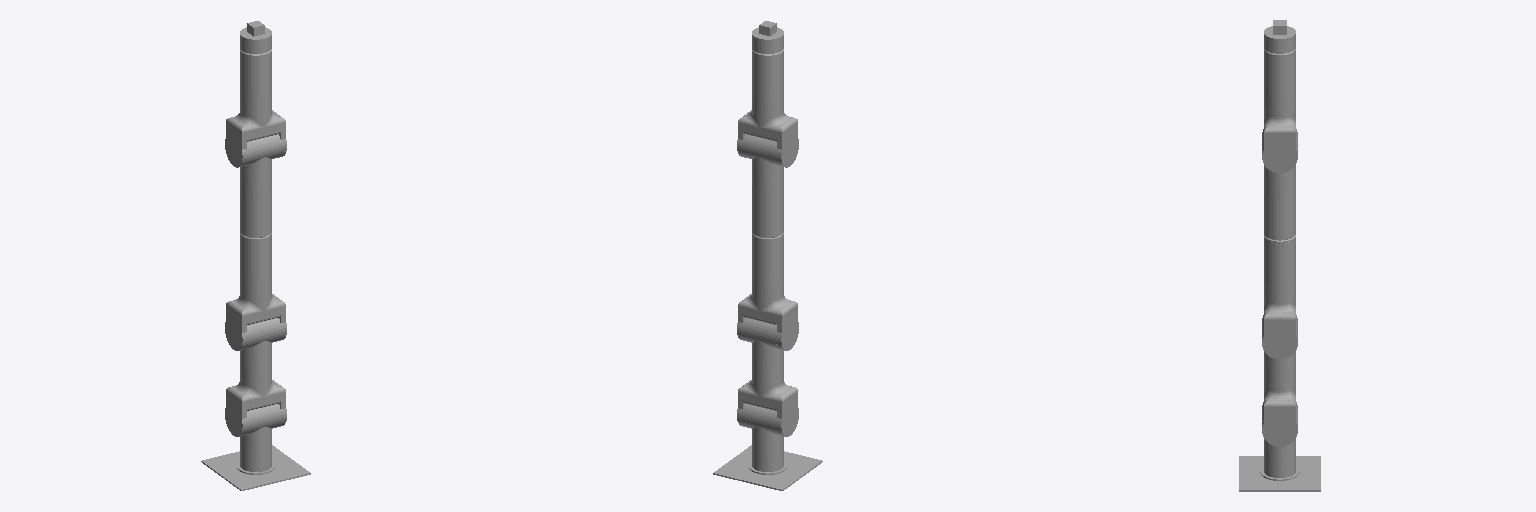
URDF robot description (ostrich_urdf):
<?xml version="1.0" ?>
<!-- =================================================================================== -->
<!-- |    This document was autogenerated by xacro from ostrich_urdf.xacro             | -->
<!-- |    EDITING THIS FILE BY HAND IS NOT RECOMMENDED                                 | -->
<!-- =================================================================================== -->
<robot name="ostrich_urdf">
  <material name="silver">
    <color rgba="0.700 0.700 0.700 1.000"/>
  </material>
  <transmission name="rot1_tran">
    <type>transmission_interface/SimpleTransmission</type>
    <joint name="rot1">
      <hardwareInterface>hardware_interface/EffortJointInterface</hardwareInterface>
    </joint>
    <actuator name="rot1_actr">
      <hardwareInterface>hardware_interface/EffortJointInterface</hardwareInterface>
      <mechanicalReduction>1</mechanicalReduction>
    </actuator>
  </transmission>
  <transmission name="rot2_tran">
    <type>transmission_interface/SimpleTransmission</type>
    <joint name="rot2">
      <hardwareInterface>hardware_interface/EffortJointInterface</hardwareInterface>
    </joint>
    <actuator name="rot2_actr">
      <hardwareInterface>hardware_interface/EffortJointInterface</hardwareInterface>
      <mechanicalReduction>1</mechanicalReduction>
    </actuator>
  </transmission>
  <transmission name="rot3_tran">
    <type>transmission_interface/SimpleTransmission</type>
    <joint name="rot3">
      <hardwareInterface>hardware_interface/EffortJointInterface</hardwareInterface>
    </joint>
    <actuator name="rot3_actr">
      <hardwareInterface>hardware_interface/EffortJointInterface</hardwareInterface>
      <mechanicalReduction>1</mechanicalReduction>
    </actuator>
  </transmission>
  <transmission name="rot4_tran">
    <type>transmission_interface/SimpleTransmission</type>
    <joint name="rot4">
      <hardwareInterface>hardware_interface/EffortJointInterface</hardwareInterface>
    </joint>
    <actuator name="rot4_actr">
      <hardwareInterface>hardware_interface/EffortJointInterface</hardwareInterface>
      <mechanicalReduction>1</mechanicalReduction>
    </actuator>
  </transmission>
  <transmission name="rot5_tran">
    <type>transmission_interface/SimpleTransmission</type>
    <joint name="rot5">
      <hardwareInterface>hardware_interface/EffortJointInterface</hardwareInterface>
    </joint>
    <actuator name="rot5_actr">
      <hardwareInterface>hardware_interface/EffortJointInterface</hardwareInterface>
      <mechanicalReduction>1</mechanicalReduction>
    </actuator>
  </transmission>
  <transmission name="rot6_tran">
    <type>transmission_interface/SimpleTransmission</type>
    <joint name="rot6">
      <hardwareInterface>hardware_interface/EffortJointInterface</hardwareInterface>
    </joint>
    <actuator name="rot6_actr">
      <hardwareInterface>hardware_interface/EffortJointInterface</hardwareInterface>
      <mechanicalReduction>1</mechanicalReduction>
    </actuator>
  </transmission>
  <gazebo>
    <plugin filename="libgazebo_ros_control.so" name="control"/>
  </gazebo>
  <gazebo reference="base_link">
    <material>Gazebo/Silver</material>
    <mu1>0.2</mu1>
    <mu2>0.2</mu2>
    <selfCollide>true</selfCollide>
    <gravity>true</gravity>
  </gazebo>
  <gazebo reference="arm1_1">
    <material>Gazebo/Silver</material>
    <mu1>0.2</mu1>
    <mu2>0.2</mu2>
    <selfCollide>true</selfCollide>
  </gazebo>
  <gazebo reference="arm2_1">
    <material>Gazebo/Silver</material>
    <mu1>0.2</mu1>
    <mu2>0.2</mu2>
    <selfCollide>true</selfCollide>
  </gazebo>
  <gazebo reference="arm3_1">
    <material>Gazebo/Silver</material>
    <mu1>0.2</mu1>
    <mu2>0.2</mu2>
    <selfCollide>true</selfCollide>
  </gazebo>
  <gazebo reference="arm4_1">
    <material>Gazebo/Silver</material>
    <mu1>0.2</mu1>
    <mu2>0.2</mu2>
    <selfCollide>true</selfCollide>
  </gazebo>
  <gazebo reference="arm5_1">
    <material>Gazebo/Silver</material>
    <mu1>0.2</mu1>
    <mu2>0.2</mu2>
    <selfCollide>true</selfCollide>
  </gazebo>
  <gazebo reference="arm6_1">
    <material>Gazebo/Silver</material>
    <mu1>0.2</mu1>
    <mu2>0.2</mu2>
    <selfCollide>true</selfCollide>
  </gazebo>
  <link name="base_link">
    <inertial>
      <origin rpy="0 0 0" xyz="2.7578935128829445e-17 5.515787025765889e-17 0.002761975022526879"/>
      <mass value="2.5887632628187394"/>
      <inertia ixx="0.012992" ixy="0.0" ixz="-0.0" iyy="0.012992" iyz="0.0" izz="0.025967"/>
    </inertial>
    <visual>
      <origin rpy="0 0 0" xyz="0 0 0"/>
      <geometry>
        <mesh filename="package://ostrich_urdf_description/meshes/base_link.stl" scale="0.001 0.001 0.001"/>
      </geometry>
      <material name="silver"/>
    </visual>
    <collision>
      <origin rpy="0 0 0" xyz="0 0 0"/>
      <geometry>
        <mesh filename="package://ostrich_urdf_description/meshes/base_link.stl" scale="0.001 0.001 0.001"/>
      </geometry>
    </collision>
  </link>
  <link name="arm1_1">
    <inertial>
      <origin rpy="0 0 0" xyz="0.0 -7.328670674595108e-10 0.12579457405148342"/>
      <mass value="17.06120317992324"/>
      <inertia ixx="0.086124" ixy="0.0" ixz="0.0" iyy="0.089734" iyz="-0.0" izz="0.02783"/>
    </inertial>
    <visual>
      <origin rpy="0 0 0" xyz="-0.0 -0.0 -0.005"/>
      <geometry>
        <mesh filename="package://ostrich_urdf_description/meshes/arm1_1.stl" scale="0.001 0.001 0.001"/>
      </geometry>
      <material name="silver"/>
    </visual>
    <collision>
      <origin rpy="0 0 0" xyz="-0.0 -0.0 -0.005"/>
      <geometry>
        <mesh filename="package://ostrich_urdf_description/meshes/arm1_1.stl" scale="0.001 0.001 0.001"/>
      </geometry>
    </collision>
  </link>
  <link name="arm2_1">
    <inertial>
      <origin rpy="0 0 0" xyz="-0.05999999999732328 3.032800993368656e-08 0.17138913427023483"/>
      <mass value="27.17363423214535"/>
      <inertia ixx="0.332477" ixy="0.0" ixz="0.0" iyy="0.355819" iyz="-0.0" izz="0.064159"/>
    </inertial>
    <visual>
      <origin rpy="0 0 0" xyz="-0.06 -0.0 -0.185"/>
      <geometry>
        <mesh filename="package://ostrich_urdf_description/meshes/arm2_1.stl" scale="0.001 0.001 0.001"/>
      </geometry>
      <material name="silver"/>
    </visual>
    <collision>
      <origin rpy="0 0 0" xyz="-0.06 -0.0 -0.185"/>
      <geometry>
        <mesh filename="package://ostrich_urdf_description/meshes/arm2_1.stl" scale="0.001 0.001 0.001"/>
      </geometry>
    </collision>
  </link>
  <link name="arm3_1">
    <inertial>
      <origin rpy="0 0 0" xyz="-0.0599999999957338 4.493635609449077e-10 0.1518601041469002"/>
      <mass value="23.646526866373804"/>
      <inertia ixx="0.256501" ixy="0.0" ixz="-0.0" iyy="0.276234" iyz="0.0" izz="0.053214"/>
    </inertial>
    <visual>
      <origin rpy="0 0 0" xyz="-0.06 -0.0 -0.48"/>
      <geometry>
        <mesh filename="package://ostrich_urdf_description/meshes/arm3_1.stl" scale="0.001 0.001 0.001"/>
      </geometry>
      <material name="silver"/>
    </visual>
    <collision>
      <origin rpy="0 0 0" xyz="-0.06 -0.0 -0.48"/>
      <geometry>
        <mesh filename="package://ostrich_urdf_description/meshes/arm3_1.stl" scale="0.001 0.001 0.001"/>
      </geometry>
    </collision>
  </link>
  <link name="arm4_1">
    <inertial>
      <origin rpy="0 0 0" xyz="0.0 -1.0276776143111988e-09 0.18482539606118964"/>
      <mass value="24.429919386960766"/>
      <inertia ixx="0.27668" ixy="-0.0" ixz="0.0" iyy="0.28029" iyz="0.0" izz="0.037009"/>
    </inertial>
    <visual>
      <origin rpy="0 0 0" xyz="-0.0 -0.0 -0.815"/>
      <geometry>
        <mesh filename="package://ostrich_urdf_description/meshes/arm4_1.stl" scale="0.001 0.001 0.001"/>
      </geometry>
      <material name="silver"/>
    </visual>
    <collision>
      <origin rpy="0 0 0" xyz="-0.0 -0.0 -0.815"/>
      <geometry>
        <mesh filename="package://ostrich_urdf_description/meshes/arm4_1.stl" scale="0.001 0.001 0.001"/>
      </geometry>
    </collision>
  </link>
  <link name="arm5_1">
    <inertial>
      <origin rpy="0 0 0" xyz="-0.0599999999957338 4.493635609449077e-10 0.15186010414690032"/>
      <mass value="23.646526866373804"/>
      <inertia ixx="0.256501" ixy="0.0" ixz="-0.0" iyy="0.276234" iyz="0.0" izz="0.053214"/>
    </inertial>
    <visual>
      <origin rpy="0 0 0" xyz="-0.06 -0.0 -1.11"/>
      <geometry>
        <mesh filename="package://ostrich_urdf_description/meshes/arm5_1.stl" scale="0.001 0.001 0.001"/>
      </geometry>
      <material name="silver"/>
    </visual>
    <collision>
      <origin rpy="0 0 0" xyz="-0.06 -0.0 -1.11"/>
      <geometry>
        <mesh filename="package://ostrich_urdf_description/meshes/arm5_1.stl" scale="0.001 0.001 0.001"/>
      </geometry>
    </collision>
  </link>
  <link name="arm6_1">
    <inertial>
      <origin rpy="0 0 0" xyz="-1.0318772372603758e-17 0.0 0.02935671431989184"/>
      <mass value="3.459487791334984"/>
      <inertia ixx="0.003185" ixy="0.0" ixz="-0.0" iyy="0.003185" iyz="-0.0" izz="0.003954"/>
    </inertial>
    <visual>
      <origin rpy="0 0 0" xyz="-0.0 -0.0 -1.445"/>
      <geometry>
        <mesh filename="package://ostrich_urdf_description/meshes/arm6_1.stl" scale="0.001 0.001 0.001"/>
      </geometry>
      <material name="silver"/>
    </visual>
    <collision>
      <origin rpy="0 0 0" xyz="-0.0 -0.0 -1.445"/>
      <geometry>
        <mesh filename="package://ostrich_urdf_description/meshes/arm6_1.stl" scale="0.001 0.001 0.001"/>
      </geometry>
    </collision>
  </link>
  <joint name="rot1" type="continuous">
    <origin rpy="0 0 0" xyz="0.0 0.0 0.005"/>
    <parent link="base_link"/>
    <child link="arm1_1"/>
    <axis xyz="0.0 0.0 1.0"/>
  </joint>
  <joint name="rot2" type="continuous">
    <origin rpy="0 0 0" xyz="0.06 0.0 0.18"/>
    <parent link="arm1_1"/>
    <child link="arm2_1"/>
    <axis xyz="1.0 0.0 0.0"/>
  </joint>
  <joint name="rot3" type="continuous">
    <origin rpy="0 0 0" xyz="0.0 0.0 0.295"/>
    <parent link="arm2_1"/>
    <child link="arm3_1"/>
    <axis xyz="-1.0 0.0 0.0"/>
  </joint>
  <joint name="rot4" type="continuous">
    <origin rpy="0 0 0" xyz="-0.06 0.0 0.335"/>
    <parent link="arm3_1"/>
    <child link="arm4_1"/>
    <axis xyz="0.0 0.0 -1.0"/>
  </joint>
  <joint name="rot5" type="continuous">
    <origin rpy="0 0 0" xyz="0.06 0.0 0.295"/>
    <parent link="arm4_1"/>
    <child link="arm5_1"/>
    <axis xyz="1.0 0.0 0.0"/>
  </joint>
  <joint name="rot6" type="continuous">
    <origin rpy="0 0 0" xyz="-0.06 0.0 0.335"/>
    <parent link="arm5_1"/>
    <child link="arm6_1"/>
    <axis xyz="0.0 0.0 -1.0"/>
  </joint>
</robot>

--- Render facts (derived) ---
Views: 3 orthographic renders of the robot side by side, from view 1: azimuth 30°, elevation 25°; view 2: azimuth 150°, elevation 25°; view 3: azimuth 270°, elevation 25°.
Robot: ostrich_urdf — 7 links, 6 joints (6 continuous); root link base_link; default pose: every joint at zero.
Links seen in each view (by area): view 1: arm5_1, arm2_1, arm3_1, arm4_1, base_link, arm1_1, arm6_1; view 2: arm5_1, arm2_1, arm3_1, arm4_1, base_link, arm1_1, arm6_1; view 3: arm3_1, arm5_1, arm2_1, base_link, arm4_1, arm1_1, arm6_1.
Link boxes in pixels (<box>): arm5_1: <box>225,49,286,167</box>; arm2_1: <box>225,318,286,436</box>; arm3_1: <box>225,233,286,350</box>; arm4_1: <box>240,134,281,237</box>; base_link: <box>201,445,310,490</box>; arm1_1: <box>240,404,281,471</box>; arm6_1: <box>240,21,271,53</box>; arm5_1: <box>737,49,798,167</box>; arm2_1: <box>737,318,798,436</box>; arm3_1: <box>737,233,798,350</box>; arm4_1: <box>742,134,783,237</box>; base_link: <box>713,445,822,490</box>; arm1_1: <box>742,404,783,471</box>; arm6_1: <box>752,21,783,53</box>; arm3_1: <box>1262,235,1297,359</box>; arm5_1: <box>1262,49,1297,172</box>; arm2_1: <box>1262,318,1297,446</box>; base_link: <box>1239,456,1320,491</box>; arm4_1: <box>1262,131,1297,240</box>; arm1_1: <box>1262,405,1297,477</box>; arm6_1: <box>1264,20,1295,53</box>.
Bounding box of the posed robot: 0.25 × 0.25 × 1.52 m (x, y, z).
Meshes: 7 distinct files referenced, 7 mesh visuals loaded (7 binary STL).